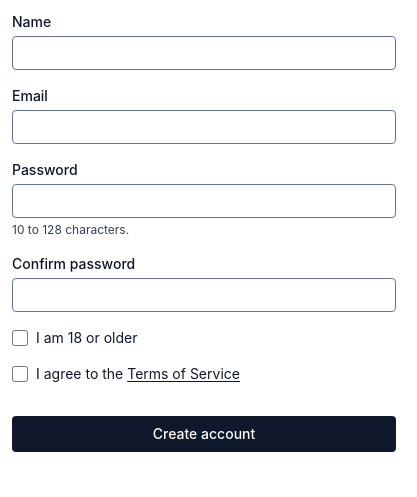
it: SignupForm › when the attestation is unchecked › blocks submit with a field error
This screenshot has width=417, height=497.
Type "Ada" into the field labelled "Name". click: (204, 53)
box: [12,36,396,70]
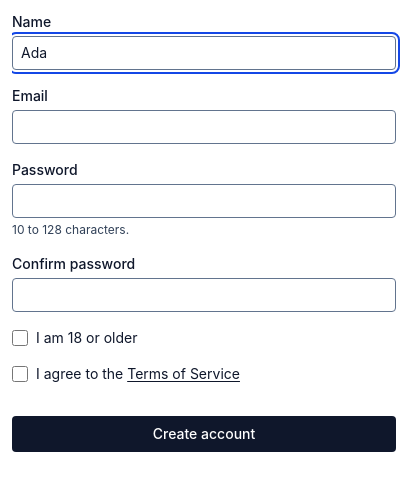
Type "ada@example.com" into the field labelled "Email". click: (204, 127)
box: [12,110,396,144]
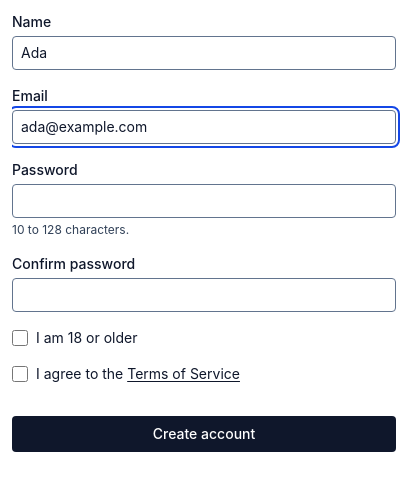
Type "longenough1" into the password field labelled "Password". click: (204, 201)
box: [12,184,396,218]
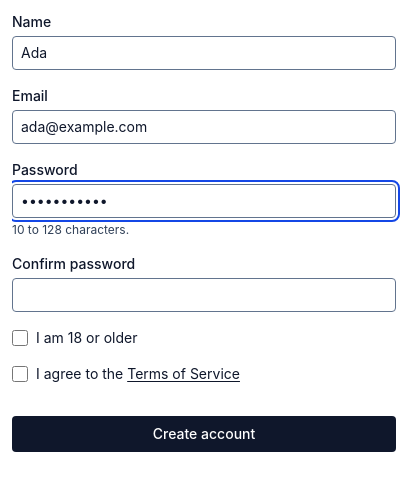
Type "longenough1" into the password field labelled "Confirm password". click: (204, 295)
box: [12,278,396,312]
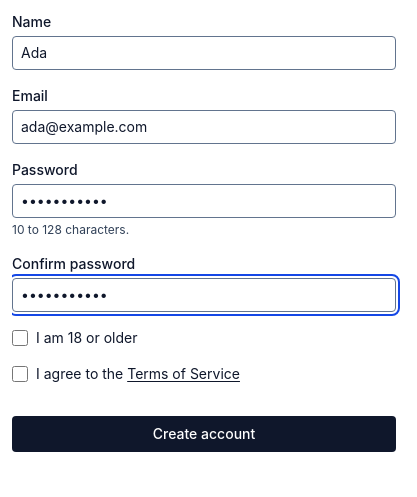
Click the checkbox labelled "I agree to the Terms of Service". click: (20, 374)
box: [12,366,28,382]
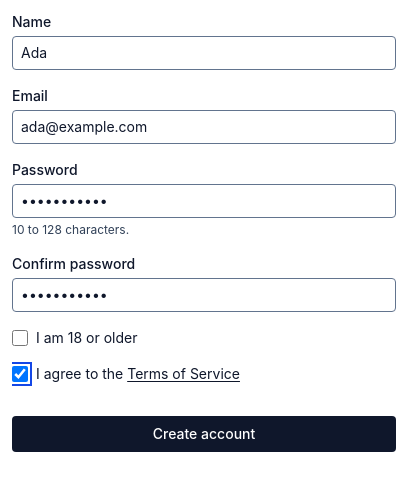
Click the button "Create account". click: (204, 434)
box: [12,416,396,452]
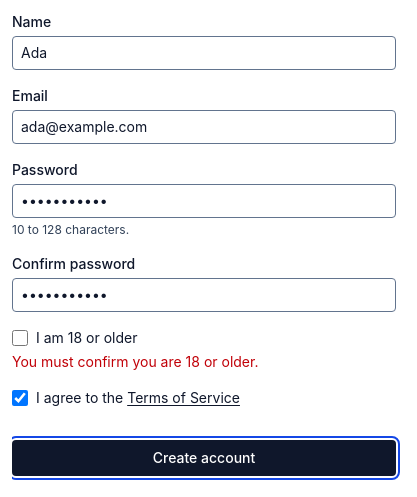
Check: the text "You must confirm you are 18 or older." is shown, box [12,353,258,370]
